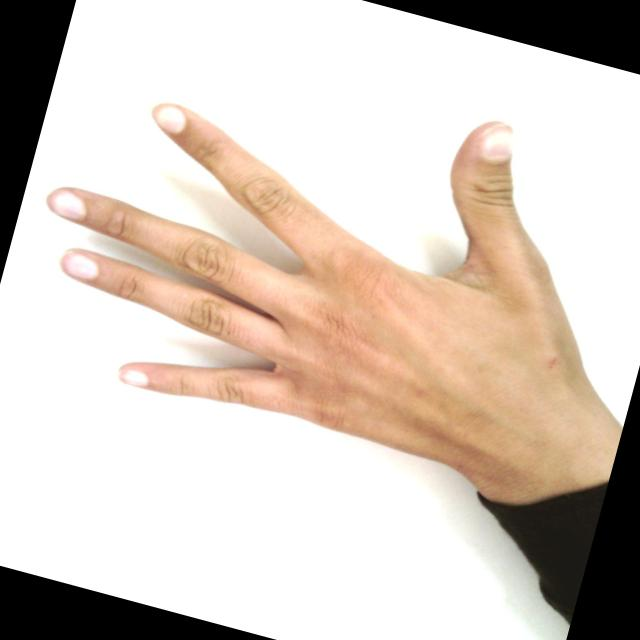Nail: (479, 123, 512, 161), (45, 188, 84, 220), (59, 251, 97, 279), (151, 104, 184, 133), (117, 367, 146, 388)
